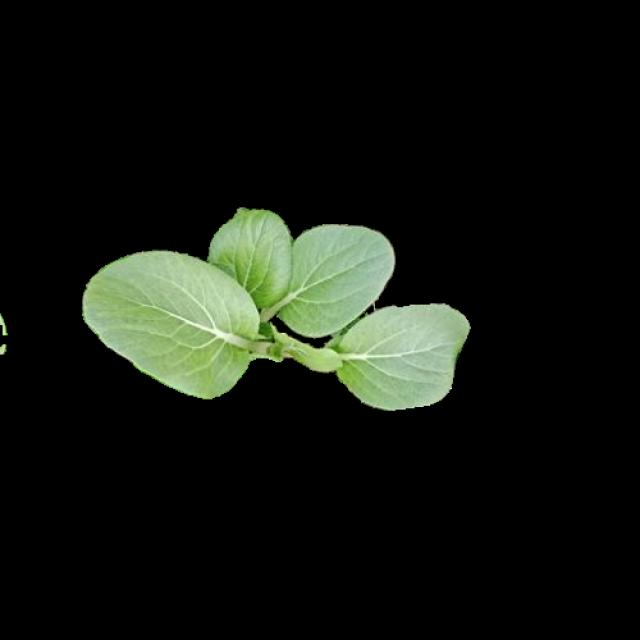healthy: (80, 207, 463, 407)
not-mature: (82, 210, 466, 410)
